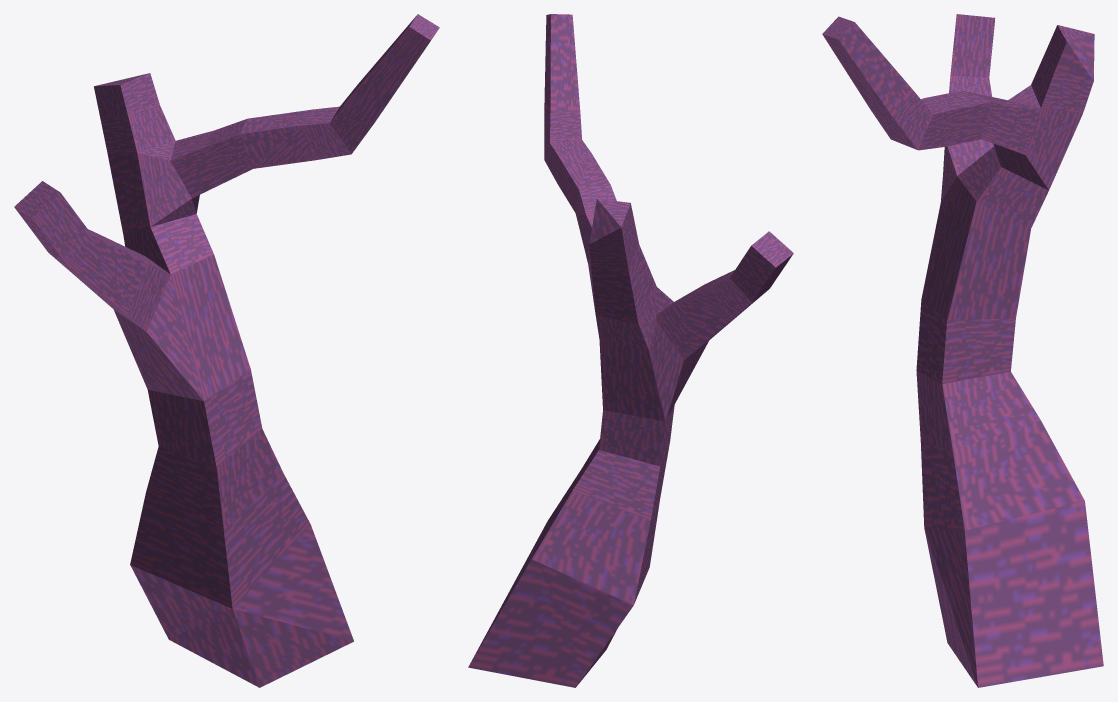
Rendered from Fallen_Tree_1.obj.
The picture shows the model from 3 angles, left to right: view 1: azimuth 30°, elevation 25°; view 2: azimuth 150°, elevation 25°; view 3: azimuth 270°, elevation 25°; orthographic projection. The views are drawn at different scales.
Visible parts, largest first — view 1: Tree_2.001_Cube.014; view 2: Tree_2.001_Cube.014; view 3: Tree_2.001_Cube.014.
Part boxes in pixels (box(x1,y1,x2,y2)): Tree_2.001_Cube.014: box(14, 14, 439, 687); Tree_2.001_Cube.014: box(468, 14, 793, 687); Tree_2.001_Cube.014: box(822, 14, 1103, 687).
Size of the model in its own units: 5.14 by 9.6 by 3.63.
